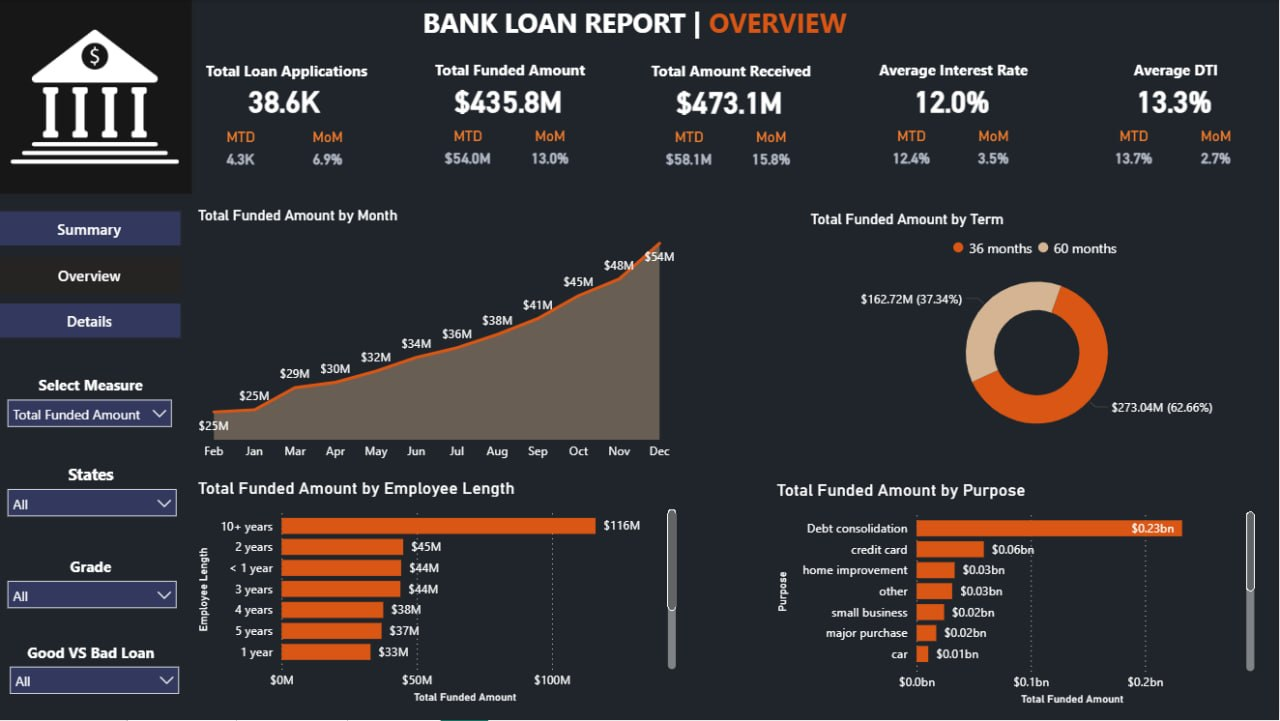

The dashboard page shown, as its layout file describes it:
{"tool":"powerbi","page":{"name":"Overview","canvas":[1280,720],"ordinal":1},"visuals":[{"type":"shape","box":[0,55.5,189.4,664.7],"z":0},{"type":"shape","box":[0,0,1280.3,55],"z":1000},{"type":"card","fields":{"Values":["financial_loan.Total Funded Amount"]},"box":[415.9,74.2,188.2,51.9],"z":1000,"group":"g3"},{"type":"card","fields":{"Values":["financial_loan.Average Interest Rate"]},"box":[859.3,74.2,188.2,51.9],"z":1000,"group":"g7"},{"type":"card","fields":{"Values":["financial_loan.Average DTI"]},"box":[1081,74.2,188.2,51.9],"z":1000,"group":"g8"},{"type":"card","fields":{"Values":["financial_loan.Total Loan Applications"]},"box":[189.4,74.9,194.2,53.1],"z":1000,"group":"g4"},{"type":"card","fields":{"Values":["financial_loan.Total Amount Received"]},"box":[637.6,75.4,188.2,51.9],"z":1000,"group":"g6"},{"type":"textbox","box":[418.5,55.5,187,30.2],"z":2000,"group":"g3"},{"type":"textbox","box":[861.9,55.5,187,30.2],"z":2000,"group":"g7"},{"type":"textbox","box":[1083.6,55.5,187,30.2],"z":2000,"group":"g8"},{"type":"textbox","box":[195.3,56.7,187,30.2],"z":2000,"group":"g4"},{"type":"textbox","box":[640.2,56.7,187,30.2],"z":2000,"group":"g6"},{"type":"textbox","box":[0,370.1,187,35],"z":2000,"group":"g11"},{"type":"textbox","box":[0,458.2,187,41],"z":2000,"group":"g9"},{"type":"group","id":"g1","title":"Group 2","box":[0,551.1,187,37.4],"z":2000},{"type":"textbox","box":[0,551.1,187,35],"z":2000,"group":"g1"},{"type":"textbox","box":[0,636.8,187,37.4],"z":2000,"group":"g10"},{"type":"textbox","box":[394.5,0,483.8,55.5],"z":3000},{"type":"card","title":"MTD","fields":{"Values":["financial_loan.MTD Funded Amount"]},"box":[435,127.3,68.8,41],"z":3000,"group":"g3"},{"type":"card","title":"MTD","fields":{"Values":["financial_loan.MTD Avg Int Rate"]},"box":[878.4,127.3,68.8,41],"z":3000,"group":"g7"},{"type":"card","title":"MTD","fields":{"Values":["financial_loan.MTD Avg DTI"]},"box":[1100.1,127.3,68.8,41],"z":3000,"group":"g8"},{"type":"card","title":"MTD","fields":{"Values":["financial_loan.MTD Loan Applications"]},"box":[208.7,128.5,68.8,41],"z":3000,"group":"g4"},{"type":"card","title":"MTD","fields":{"Values":["financial_loan.MTD Amount Received"]},"box":[656.7,128.5,68.8,41],"z":3000,"group":"g6"},{"type":"group","id":"g2","title":"Group 1","box":[189.4,56.7,194.2,112.8],"z":4000},{"type":"card","title":"MoM","fields":{"Values":["financial_loan.MoM Funded Amount"]},"box":[516.8,127.3,68.8,41],"z":4000,"group":"g3"},{"type":"card","title":"MoM","fields":{"Values":["financial_loan.MoM Avg Int Rate"]},"box":[960.2,127.3,68.8,41],"z":4000,"group":"g7"},{"type":"card","title":"MoM","fields":{"Values":["financial_loan.MoM Avg DTI"]},"box":[1181.9,127.3,68.8,41],"z":4000,"group":"g8"},{"type":"card","title":"MoM","fields":{"Values":["financial_loan.Mom Loan Application"]},"box":[295.6,128.5,68.8,41],"z":4000,"group":"g4"},{"type":"card","title":"MoM","fields":{"Values":["financial_loan.MoM Amount Received"]},"box":[738.5,128.5,68.8,41],"z":4000,"group":"g6"},{"type":"group","id":"g3","title":"Group 3","box":[415.9,55.5,189.6,112.8],"z":4001,"group":"g5"},{"type":"group","id":"g4","title":"Group 2","box":[189.4,56.7,194.2,112.8],"z":4005,"group":"g2"},{"type":"group","id":"g5","title":"Group 2","box":[415.9,55.5,189.4,113.4],"z":5000},{"type":"group","id":"g6","title":"Group 3","box":[637.6,56.7,189.4,113.4],"z":6000},{"type":"group","id":"g7","title":"Group 3","box":[859.3,55.5,189.4,113.4],"z":7000},{"type":"shape","box":[195.4,202.7,495.8,270.2],"z":8000},{"type":"group","id":"g8","title":"Group 3","box":[1081,55.5,189.4,113.4],"z":9000},{"type":"slicer","fields":{"Values":["financial_loan.address_state"]},"box":[0,478.7,189.4,48.3],"z":10000},{"type":"group","id":"g9","title":"Group 2","box":[0,458.2,187,41],"z":11000},{"type":"group","id":"g10","title":"Group 2","box":[0,636.8,187,37.4],"z":12000},{"type":"slicer","fields":{"Values":["financial_loan.grade"]},"box":[0,570.4,189.4,48.3],"z":13000},{"type":"slicer","fields":{"Values":["financial_loan.Good vs Bad Loan"]},"box":[2.4,656.1,189.4,48.3],"z":14000},{"type":"areaChart","fields":{"Y":["financial_loan.Total Funded Amount"],"Category":["Date Table.Month"]},"box":[195.4,207.5,487.4,261.8],"z":15000},{"type":"slicer","fields":{"Values":["Measures 2.Measures"]},"box":[0,389.4,184.6,53.1],"z":16000},{"type":"group","id":"g11","title":"Group 2","box":[0,370.1,187,37.4],"z":17000},{"type":"shape","box":[784.2,189.4,485,279.9],"z":18000},{"type":"donutChart","fields":{"Y":["financial_loan.Total Funded Amount"],"Category":["financial_loan.term"]},"box":[807.1,211.1,462.1,237.7],"z":20000},{"type":"shape","box":[195.4,476.5,495.8,235.3],"z":21000},{"type":"barChart","fields":{"Y":["financial_loan.Total Funded Amount"],"Category":["financial_loan.emp_length"]},"box":[195.4,477.8,487.4,230.4],"z":22000},{"type":"shape","box":[762.5,474.1,495,235],"z":23000},{"type":"barChart","fields":{"Y":["financial_loan.Total Funded Amount"],"Category":["financial_loan.purpose"]},"box":[773.3,480.2,487,230],"z":24000},{"type":"pageNavigator","box":[0,211.1,184.6,129.1],"z":25000},{"type":"image","box":[0,0,195.4,195.4],"z":26000}]}

Visuals, with their boxes in screenshot pixels (x1, y1, x2, y2), scaled from the page's 1280x720 canvas onto the 1280x721 screenshot:
shape: [0,56,189,720]
shape: [0,0,1279,55]
card - financial_loan.Total Funded Amount: [416,74,604,126]
card - financial_loan.Average Interest Rate: [859,74,1048,126]
card - financial_loan.Average DTI: [1081,74,1269,126]
card - financial_loan.Total Loan Applications: [189,75,384,128]
card - financial_loan.Total Amount Received: [638,76,826,127]
textbox: [418,56,606,86]
textbox: [862,56,1049,86]
textbox: [1084,56,1271,86]
textbox: [195,57,382,87]
textbox: [640,57,827,87]
textbox: [0,371,187,406]
textbox: [0,459,187,500]
"Group 2" group: [0,552,187,589]
textbox: [0,552,187,587]
textbox: [0,638,187,675]
textbox: [394,0,878,56]
"MTD" card: [435,127,504,169]
"MTD" card: [878,127,947,169]
"MTD" card: [1100,127,1169,169]
"MTD" card: [209,129,278,170]
"MTD" card: [657,129,726,170]
"Group 1" group: [189,57,384,170]
"MoM" card: [517,127,586,169]
"MoM" card: [960,127,1029,169]
"MoM" card: [1182,127,1251,169]
"MoM" card: [296,129,364,170]
"MoM" card: [738,129,807,170]
"Group 3" group: [416,56,606,169]
"Group 2" group: [189,57,384,170]
"Group 2" group: [416,56,605,169]
"Group 3" group: [638,57,827,170]
"Group 3" group: [859,56,1049,169]
shape: [195,203,691,474]
"Group 3" group: [1081,56,1270,169]
slicer - financial_loan.address_state: [0,479,189,528]
"Group 2" group: [0,459,187,500]
"Group 2" group: [0,638,187,675]
slicer - financial_loan.grade: [0,571,189,620]
slicer - financial_loan.Good vs Bad Loan: [2,657,192,705]
areaChart - financial_loan.Total Funded Amount x Date Table.Month: [195,208,683,470]
slicer - Measures 2.Measures: [0,390,185,443]
"Group 2" group: [0,371,187,408]
shape: [784,190,1269,470]
donutChart - financial_loan.Total Funded Amount x financial_loan.term: [807,211,1269,449]
shape: [195,477,691,713]
barChart - financial_loan.Total Funded Amount x financial_loan.emp_length: [195,478,683,709]
shape: [762,475,1258,710]
barChart - financial_loan.Total Funded Amount x financial_loan.purpose: [773,481,1260,711]
pageNavigator: [0,211,185,341]
image: [0,0,195,196]
